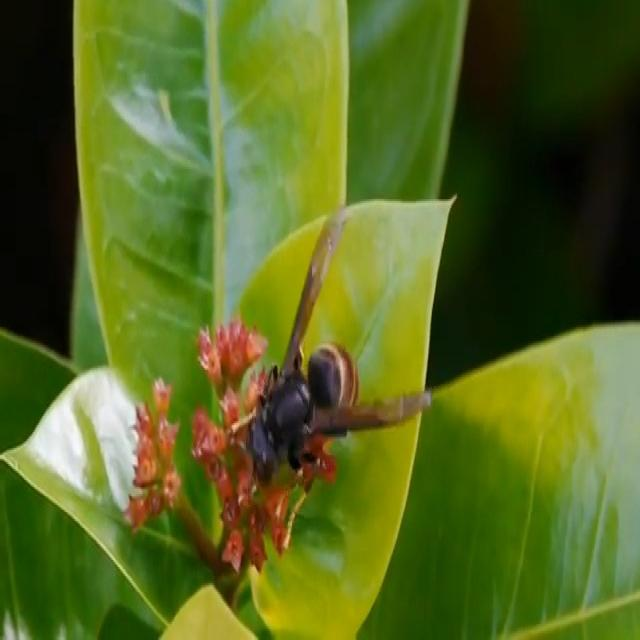Hornets: (218, 208, 431, 548)
